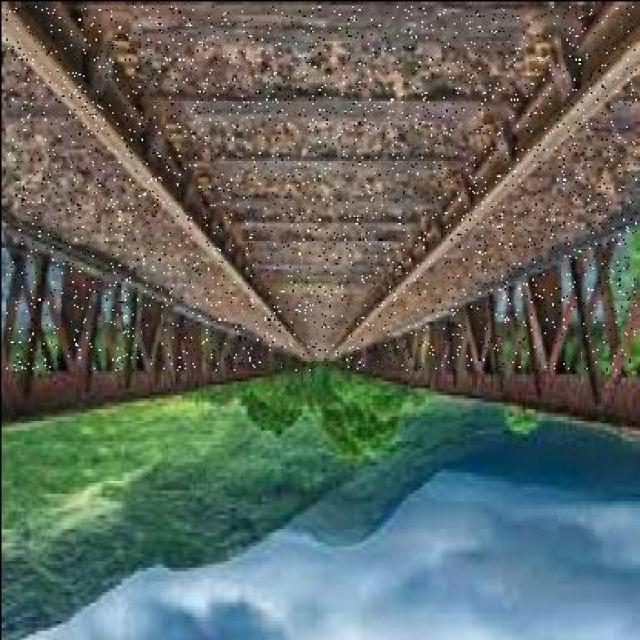rail: (5, 5, 635, 368)
